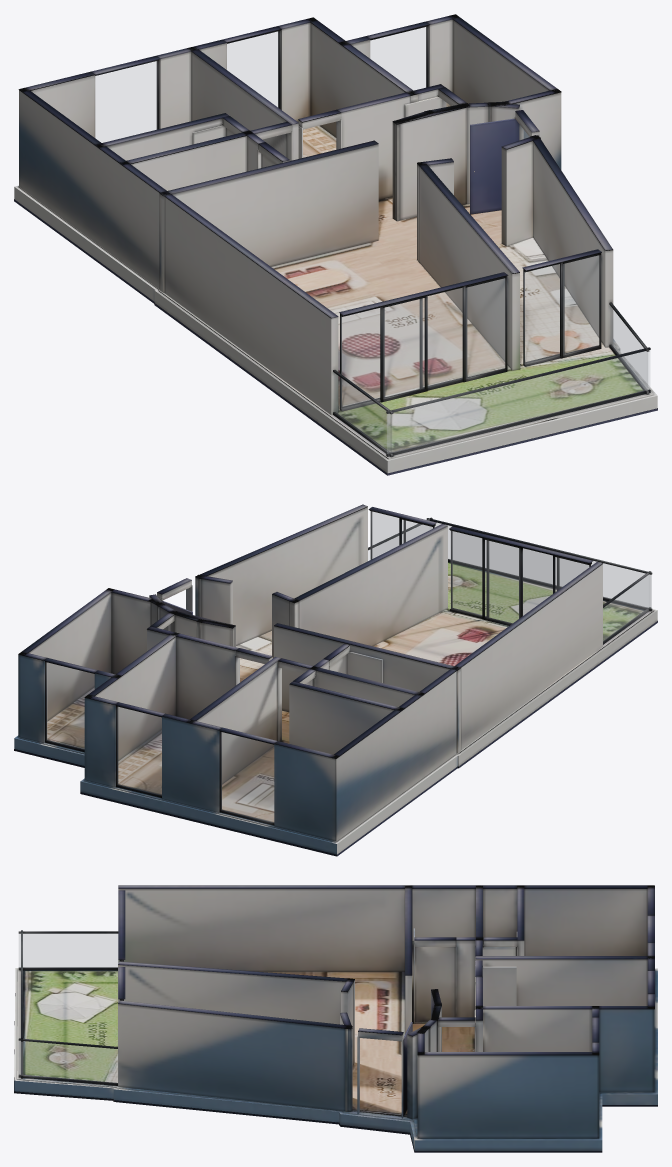
The picture shows the model from 3 angles, top to bottom: view 1: azimuth 30°, elevation 25°; view 2: azimuth 150°, elevation 25°; view 3: azimuth 270°, elevation 25°; orthographic projection. The views are drawn at different scales.
Parts seen in each view (by area): view 1: plan, glass3_m, railg1_m, glass4_m, glass0_m, glass1_m, glass2_m, railg2_m, railg0_m; view 2: plan, glass3_m, railg1_m, glass0_m, glass1_m, glass2_m, railg2_m, glass4_m; view 3: plan, railg0_m, railg2_m.
Boxes of the visible parts, x1,y1,x2,y2 form: plan: [14, 14, 657, 475]; glass3_m: [341, 278, 504, 408]; railg1_m: [387, 350, 649, 453]; glass4_m: [524, 255, 598, 363]; glass0_m: [95, 61, 157, 142]; glass1_m: [227, 31, 278, 107]; glass2_m: [370, 27, 426, 90]; railg2_m: [334, 373, 391, 453]; railg0_m: [610, 306, 647, 390]; plan: [14, 504, 657, 856]; glass3_m: [450, 531, 591, 623]; railg1_m: [430, 523, 651, 608]; glass0_m: [221, 732, 273, 822]; glass1_m: [117, 707, 161, 795]; glass2_m: [46, 663, 94, 749]; railg2_m: [603, 575, 649, 641]; glass4_m: [370, 511, 432, 559]; plan: [14, 885, 657, 1152]; railg0_m: [19, 1041, 117, 1082]; railg2_m: [19, 934, 117, 967].
Bounding box in the file's own units: 10.03 × 2.62 × 15.84.
Materials: 2 (1 with a texture image).
